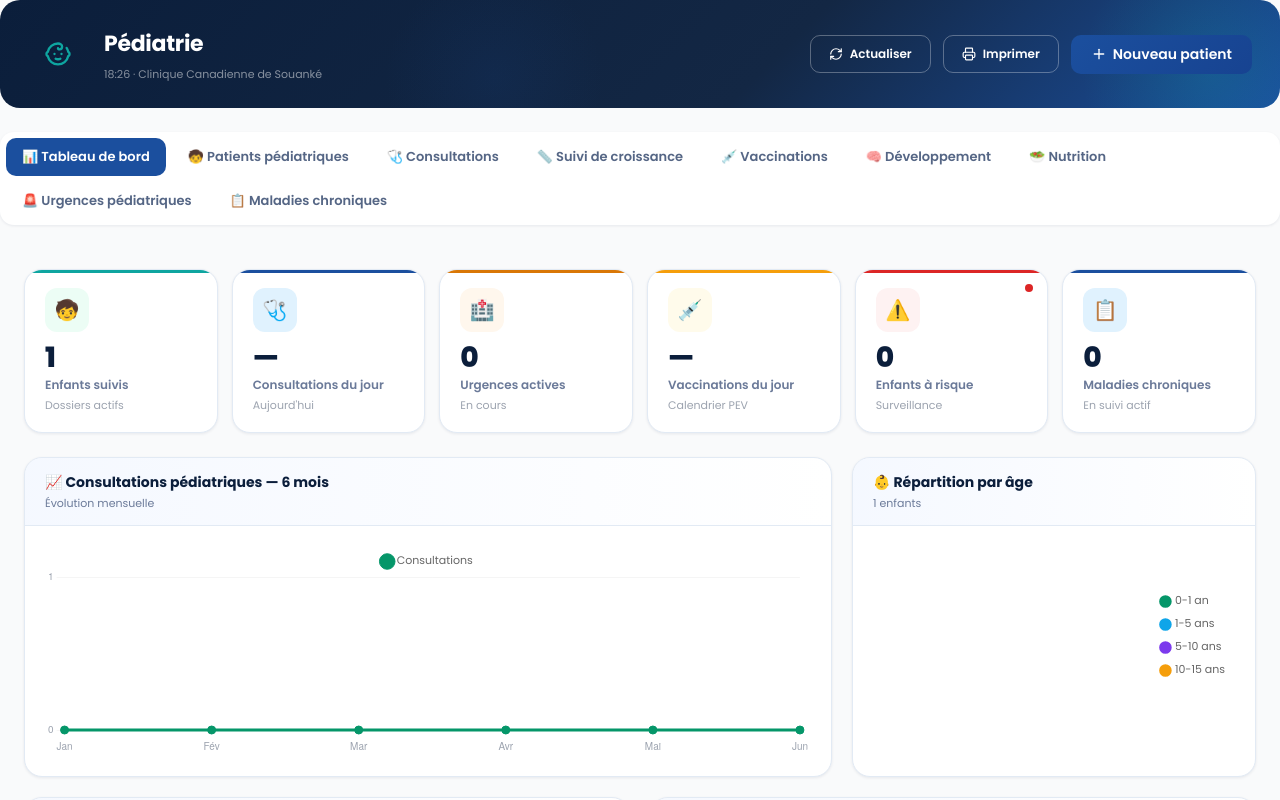
PEDI-03 — le dossier d'un enfant affiche réellement ses consultations, même absentes des 50 dernières globales
What coordinates should you click on to do the following:
click the button "🧒 Patients pédiatriques"
I would click on:
 (268, 157)
Its box is [172, 138, 365, 176].
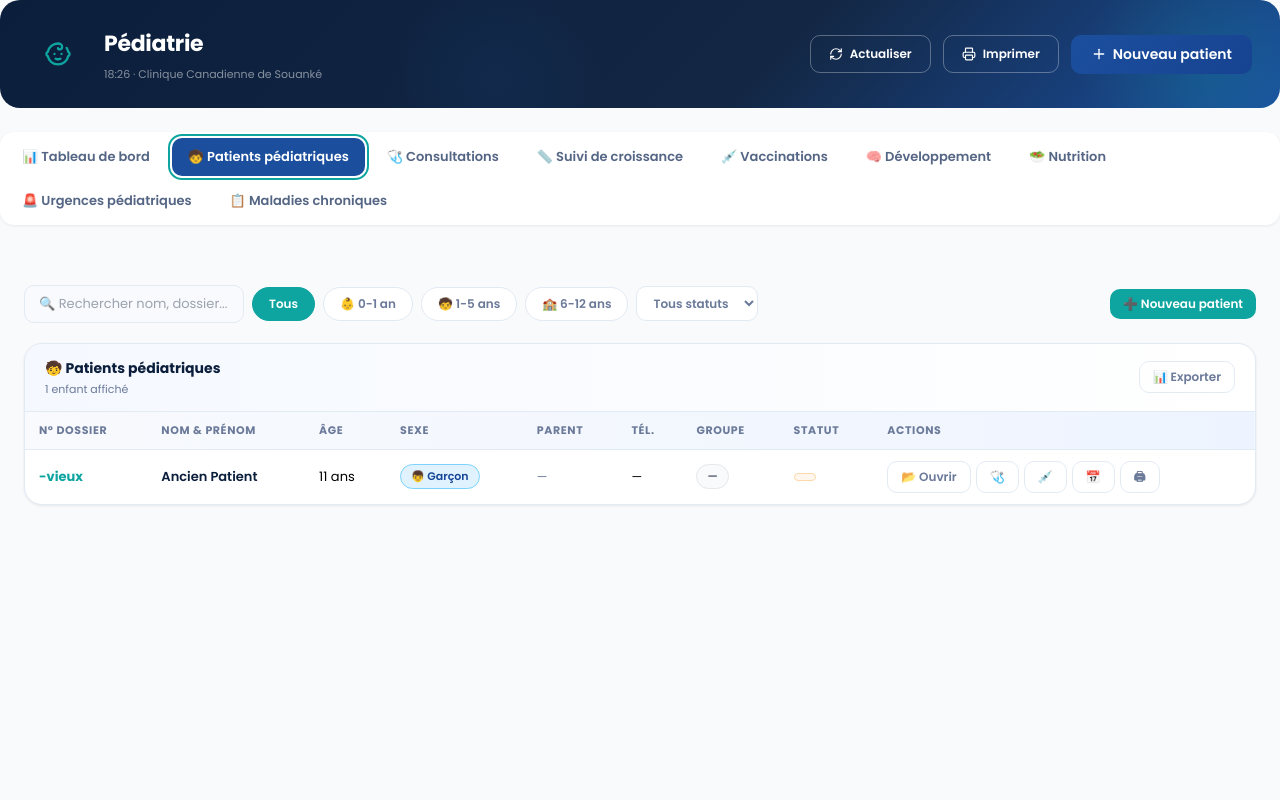
What coordinates should you click on to do the following:
click the button "📂 Ouvrir"
I would click on:
 (929, 476)
Its box is [887, 460, 971, 492].
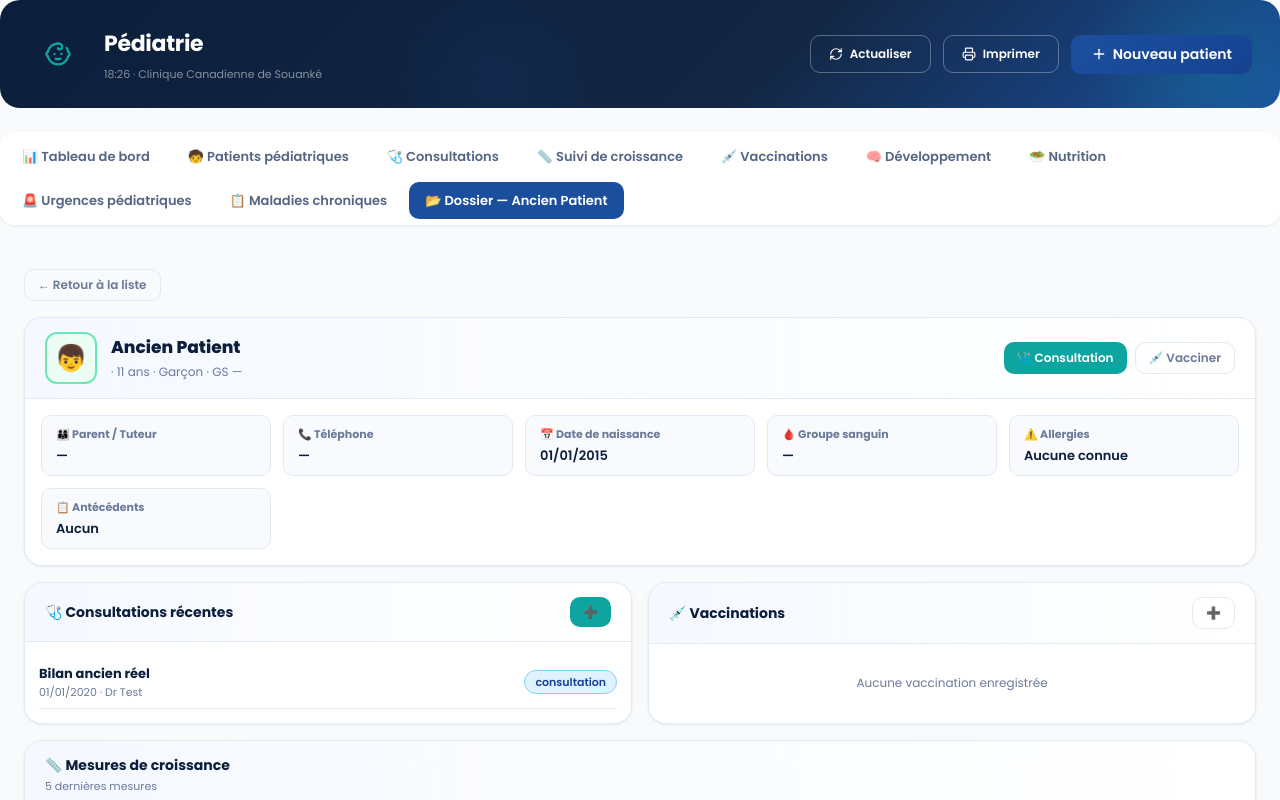
expect the text "Bilan ancien réel" is shown: met, box [39, 664, 150, 684]
